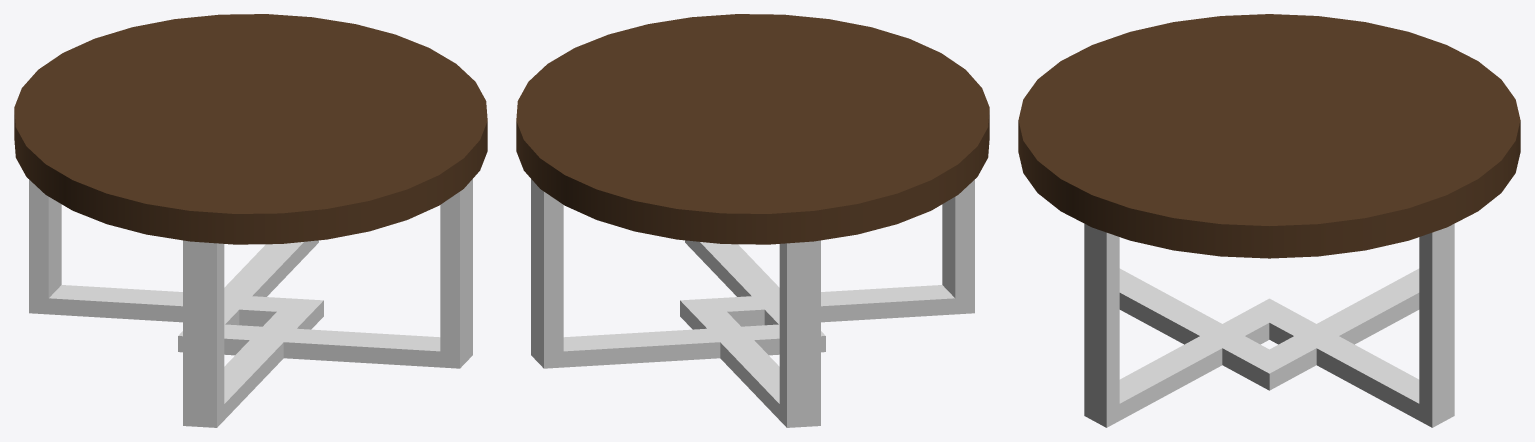
The model's file is LoungeTable.fbx.
3 views of the same model, side by side, from view 1: azimuth 30°, elevation 25°; view 2: azimuth 150°, elevation 25°; view 3: azimuth 270°, elevation 25° (orthographic). The views are drawn at different scales.
Parts seen in each view (by area): view 1: Table, Legs.001; view 2: Table, Legs.001; view 3: Table, Legs.001.
Boxes of the visible parts, left/top/right/bottom form: Table: left=14, top=14, right=487, bottom=244; Legs.001: left=29, top=179, right=472, bottom=427; Table: left=516, top=14, right=989, bottom=244; Legs.001: left=531, top=179, right=974, bottom=427; Table: left=1018, top=14, right=1520, bottom=258; Legs.001: left=1084, top=223, right=1454, bottom=427.
Bounding box in the file's own units: 200 × 102 × 200.
